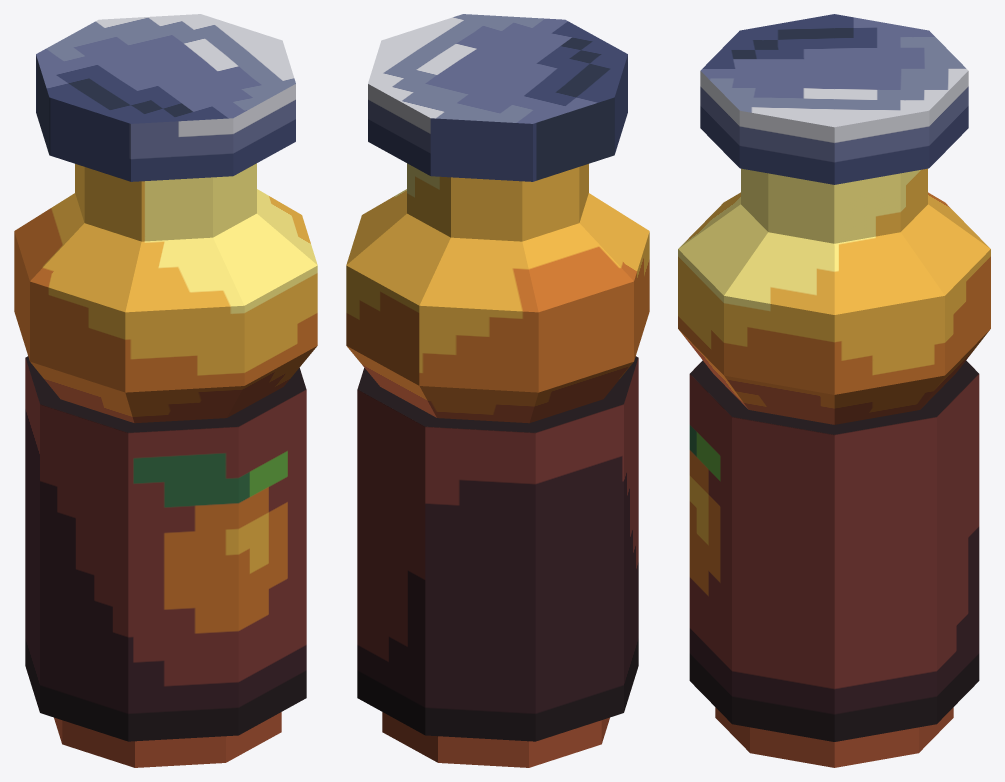
Rendered from Low Polly Bottle.fbx.
The picture shows the model from 3 angles, left to right: view 1: azimuth 30°, elevation 25°; view 2: azimuth 150°, elevation 25°; view 3: azimuth 270°, elevation 25°; orthographic projection.
Visible parts, largest first — view 1: Bottle; view 2: Bottle; view 3: Bottle.
Boxes of the visible parts, x1,y1,x2,y2 form: Bottle: (14,14,317,767); Bottle: (346,14,649,767); Bottle: (678,14,990,767).
Size of the model in its own units: 2.47 by 5.64 by 2.47.
1 material, 1 textured.
